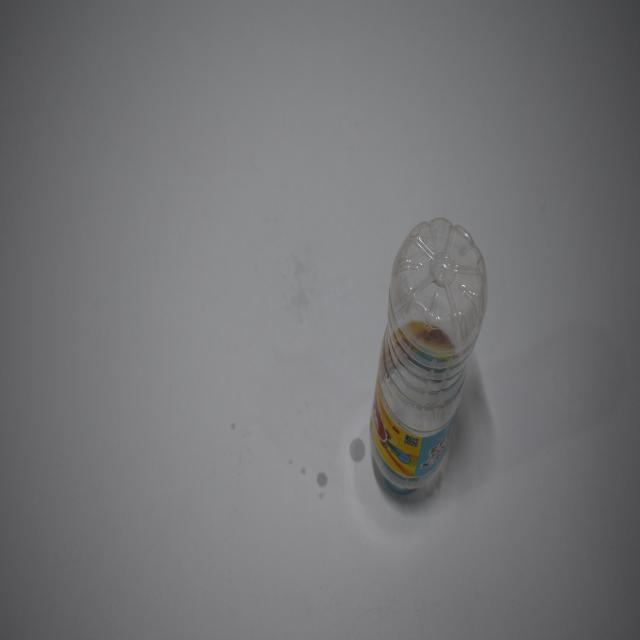bottle: (367, 214, 491, 501)
